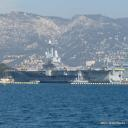Portanaves: (4, 36, 125, 86)
